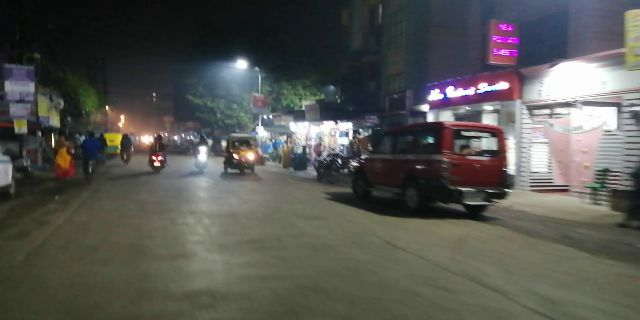Autorickshaw: (225, 133, 263, 174)
Car: (345, 117, 516, 209)
Motorbike: (145, 132, 171, 174)
